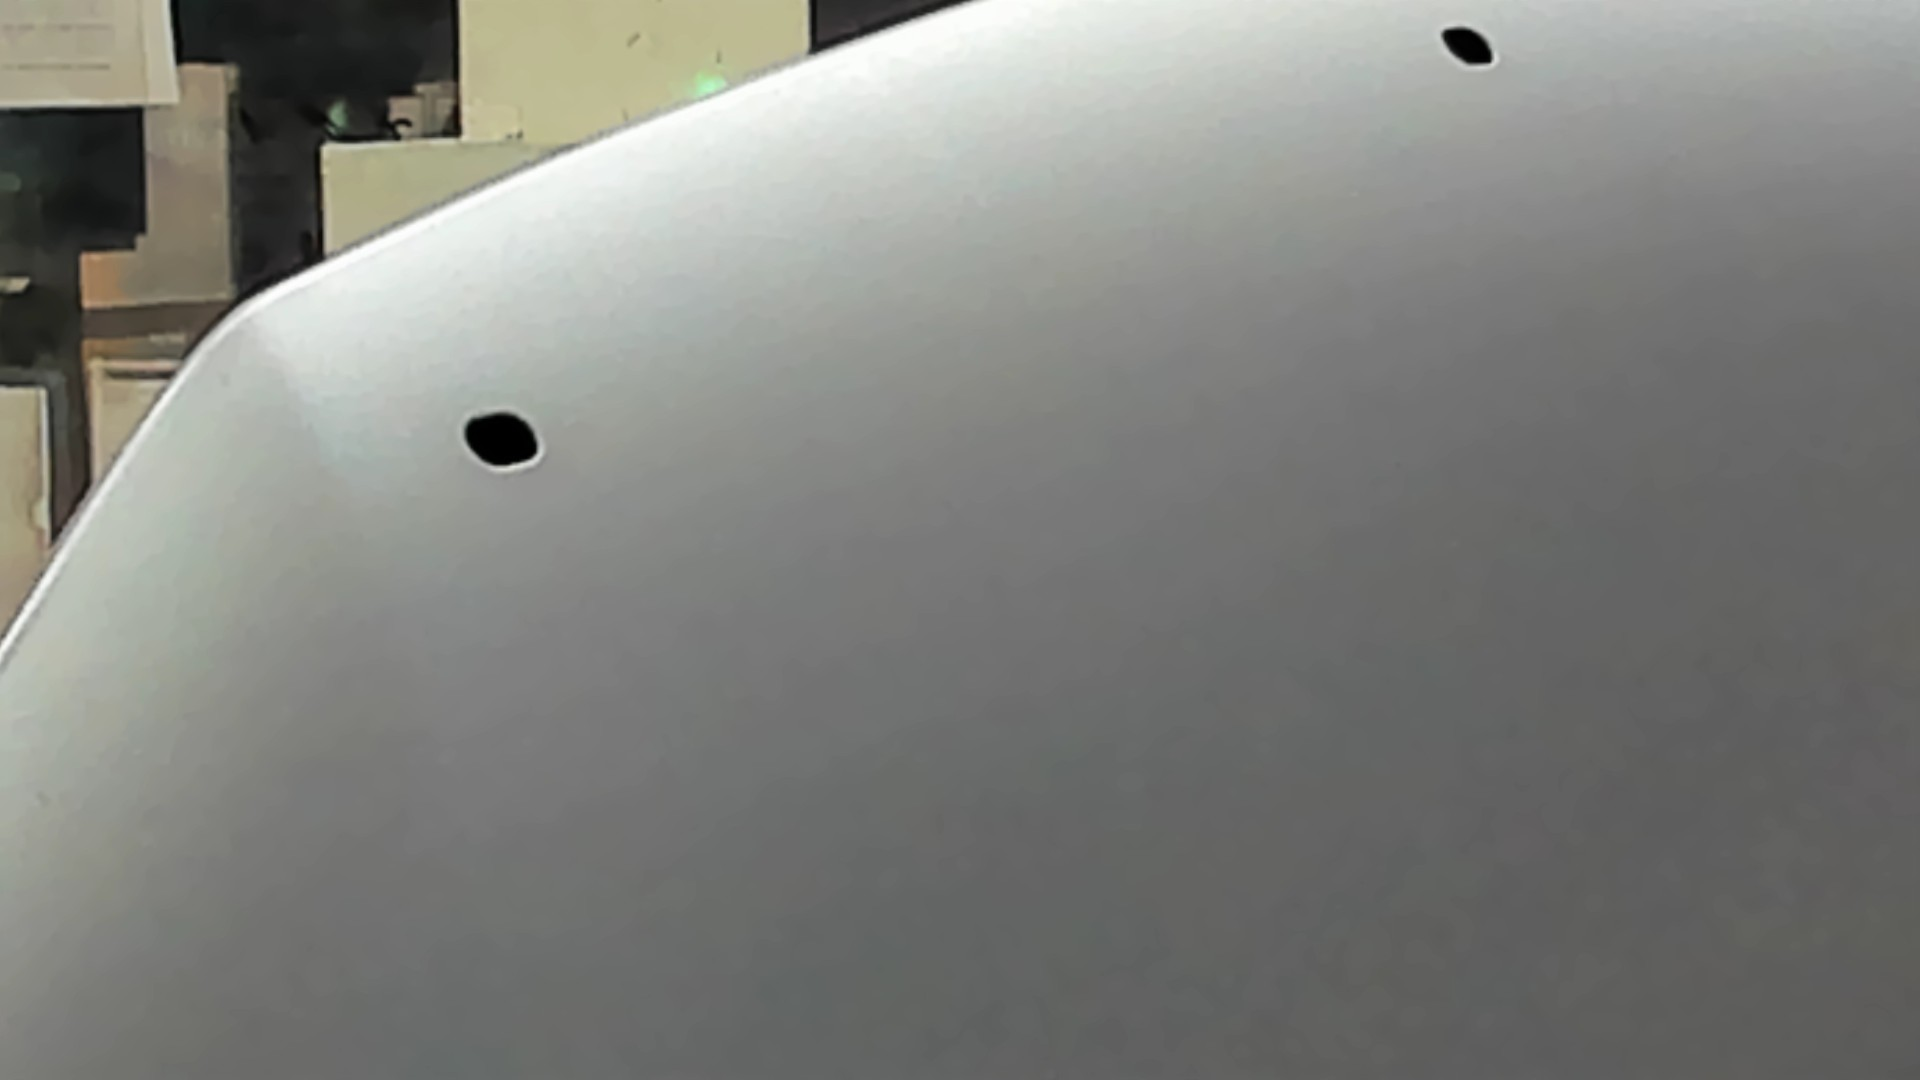chico: (454, 411, 560, 476), (1429, 13, 1505, 76)
